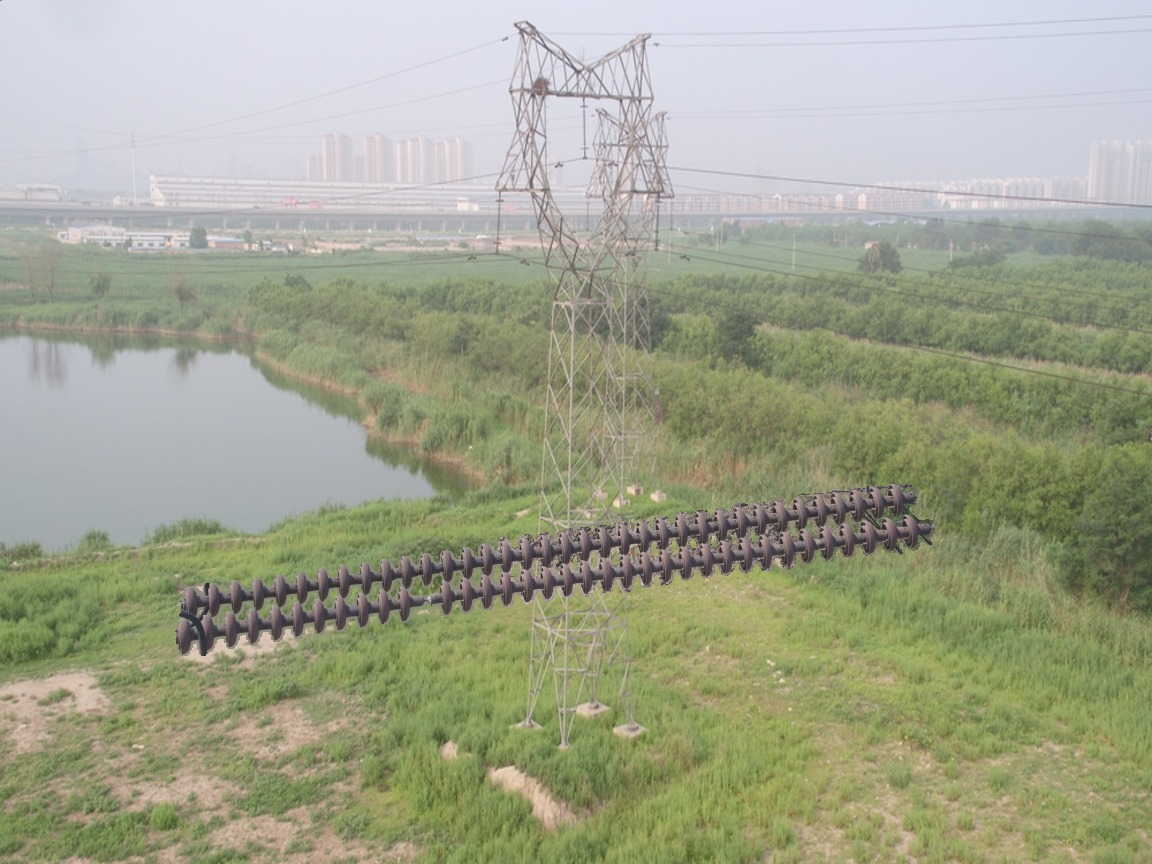defect: (391, 580, 461, 623)
